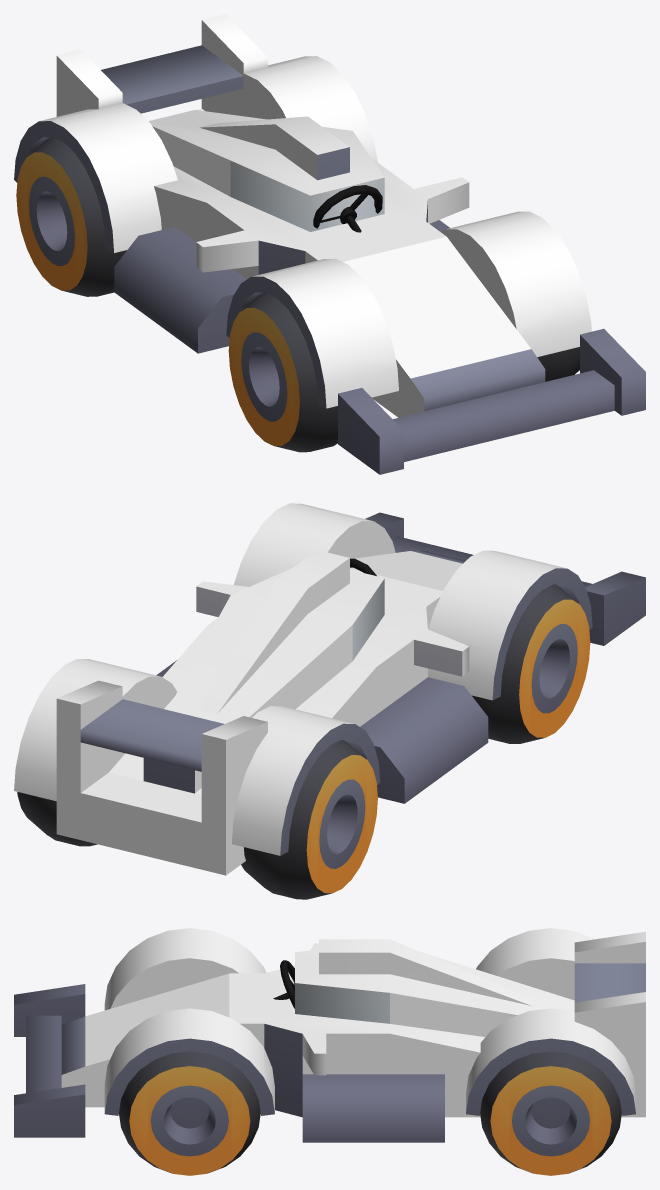
Rendered from future.glb.
3 views of the same model, one above another, from view 1: azimuth 30°, elevation 25°; view 2: azimuth 150°, elevation 25°; view 3: azimuth 270°, elevation 25° (orthographic). The views are drawn at different scales.
Parts seen in each view (by area): view 1: paint, body, wheel-front-right, wheel-back-right, steering-wheel, wheel-front-left; view 2: paint, body, wheel-back-right, wheel-front-right, wheel-back-left; view 3: paint, body, wheel-front-left, wheel-back-left, steering-wheel.
Boxes of the visible parts, x1,y1,x2,y2 form: paint: (39, 14, 591, 417); body: (14, 45, 645, 474); wheel-front-right: (228, 292, 337, 452); wheel-back-right: (16, 137, 126, 296); steering-wheel: (313, 185, 382, 232); wheel-front-left: (537, 347, 579, 381); paint: (14, 503, 566, 875); body: (80, 512, 645, 855); wheel-back-right: (241, 740, 377, 899); wheel-front-right: (472, 584, 590, 743); wheel-back-left: (17, 792, 97, 846); paint: (61, 928, 645, 1117); body: (14, 963, 645, 1142); wheel-front-left: (119, 1051, 260, 1175); wheel-back-left: (480, 1051, 621, 1175); steering-wheel: (273, 960, 294, 1008).
Bounding box in the file's own units: 1.86 × 1.29 × 4.12.
Materials: 3 (1 with a texture image).
